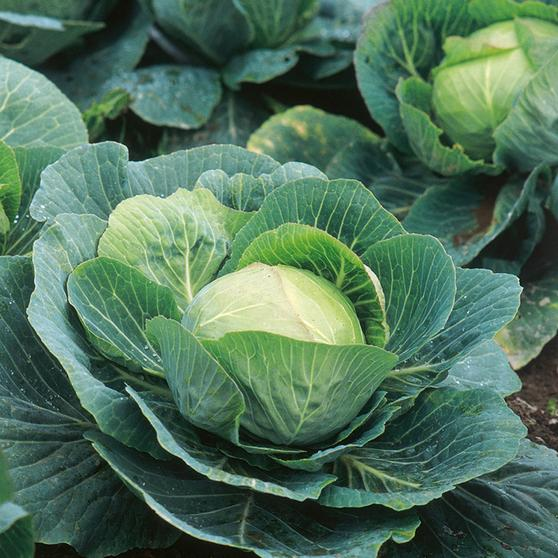cabbage: (86, 194, 423, 460)
